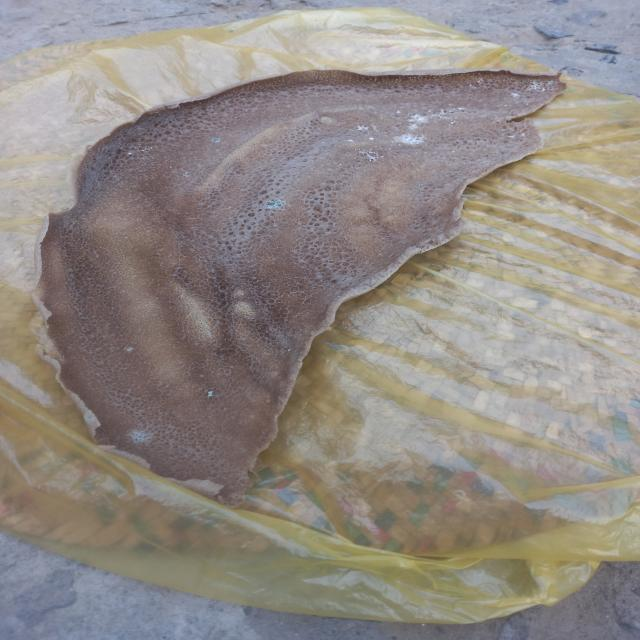injera_mold: (125, 427, 161, 448), (390, 129, 428, 147), (525, 78, 563, 92), (406, 111, 430, 132), (263, 196, 290, 212), (359, 150, 386, 162), (120, 344, 139, 355), (354, 122, 374, 132), (204, 387, 220, 399), (181, 169, 198, 180), (210, 135, 225, 145), (507, 91, 526, 98)
